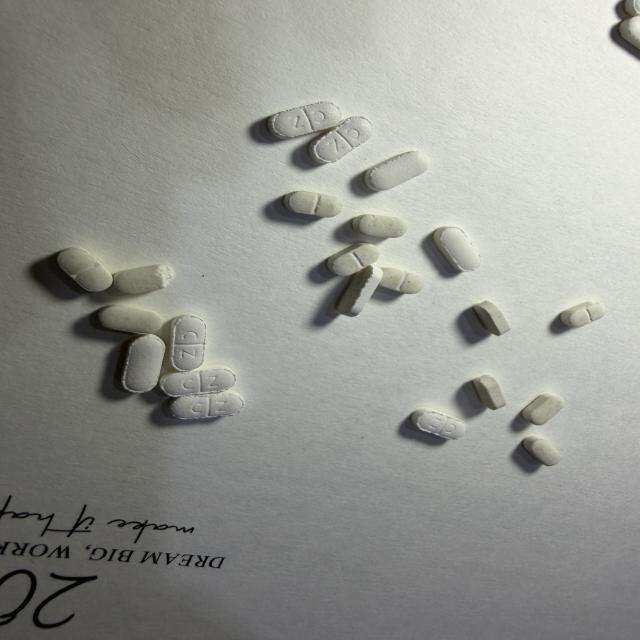pill: (309, 117, 372, 163), (268, 102, 341, 138), (365, 151, 428, 190), (122, 335, 165, 392), (58, 248, 113, 291), (159, 366, 236, 396), (336, 266, 382, 316), (434, 227, 479, 271), (171, 392, 244, 419), (170, 315, 205, 371), (99, 305, 162, 333), (114, 265, 174, 294), (412, 408, 466, 439), (327, 244, 379, 275), (283, 191, 341, 217), (522, 393, 564, 425), (352, 214, 407, 237), (473, 301, 510, 335), (522, 435, 561, 466), (560, 302, 605, 327), (472, 375, 505, 409), (381, 268, 423, 293), (620, 16, 639, 48), (625, 0, 639, 16)
